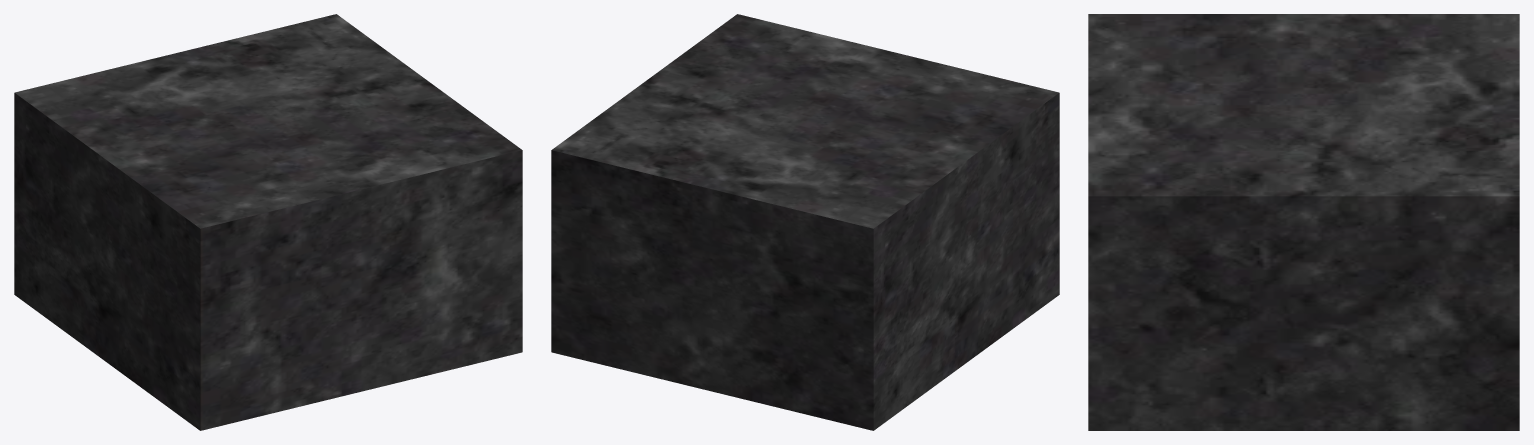
Rendered from Bk_Rock.glb.
The picture shows the model from 3 angles, left to right: view 1: azimuth 30°, elevation 25°; view 2: azimuth 150°, elevation 25°; view 3: azimuth 270°, elevation 25°; orthographic projection. The views are drawn at different scales.
Visible parts, largest first — view 1: Bk_Rock; view 2: Bk_Rock; view 3: Bk_Rock.
Boxes of the visible parts, box(x1,y1,x2,y2) form: Bk_Rock: box(14, 14, 522, 430); Bk_Rock: box(551, 14, 1059, 430); Bk_Rock: box(1088, 14, 1519, 430).
Bounding box in the file's own units: 2 × 1.2 × 2.
Materials: 1 (1 with a texture image).
